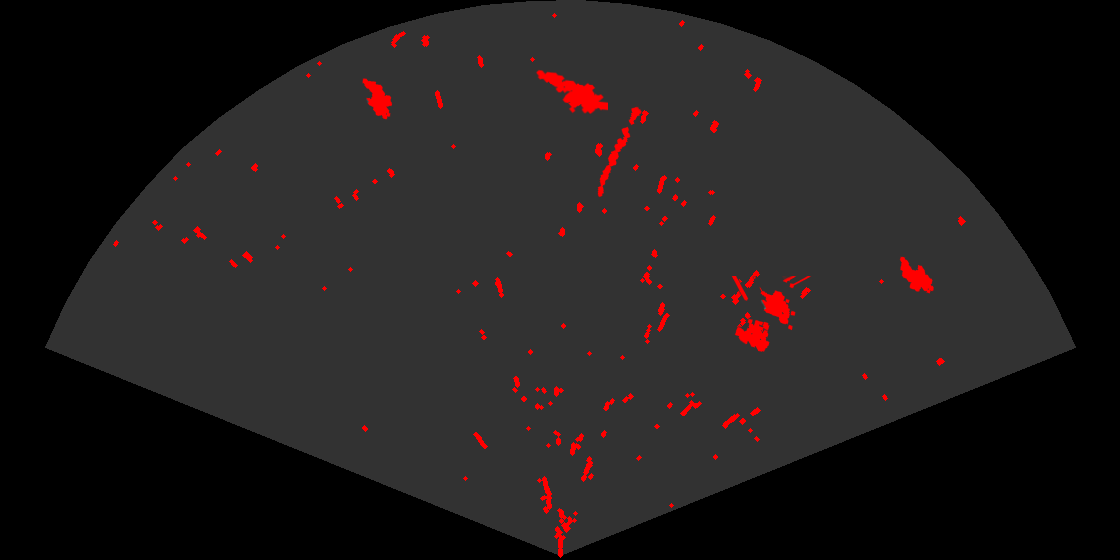AUV: (898, 255, 935, 295), (361, 77, 394, 121)
cage: (730, 276, 812, 353)
chain: (596, 105, 643, 199)
frogman: (535, 68, 608, 116)
